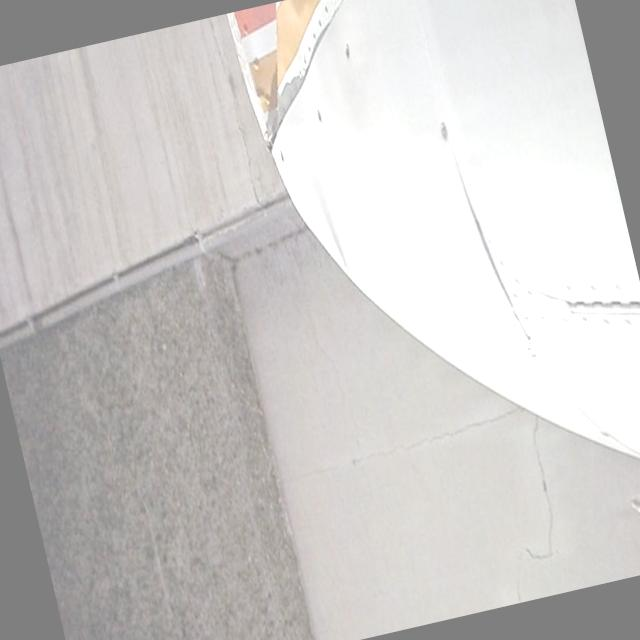dent: (224, 0, 368, 289)
